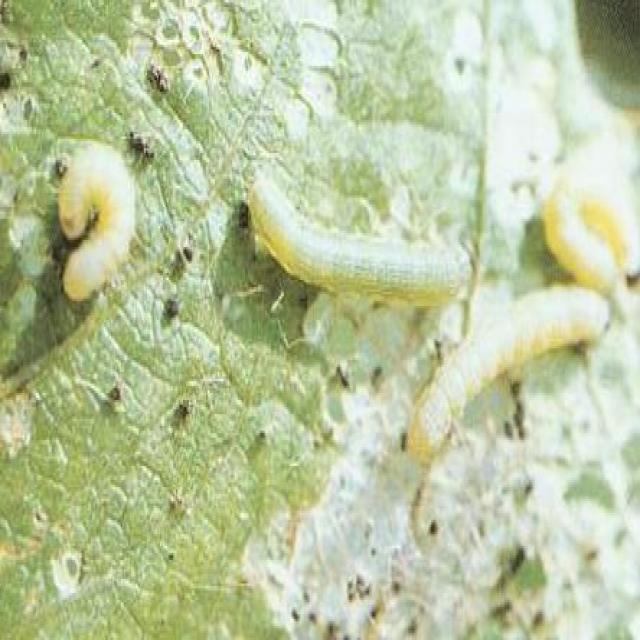BeetArmyWorm-Larva-: (402, 282, 618, 468), (242, 172, 476, 310), (53, 136, 142, 312)
